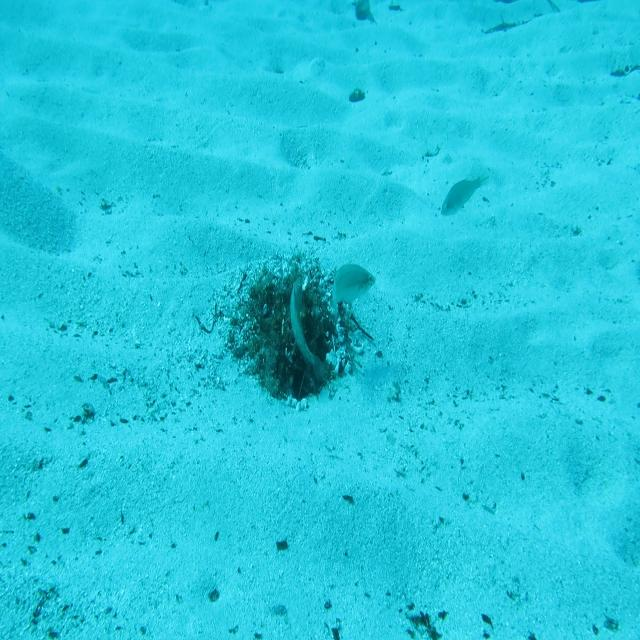SHAK: (282, 276, 333, 386)
female: (331, 260, 377, 328)
nest: (225, 267, 360, 426)
other_fish: (439, 168, 492, 222)
